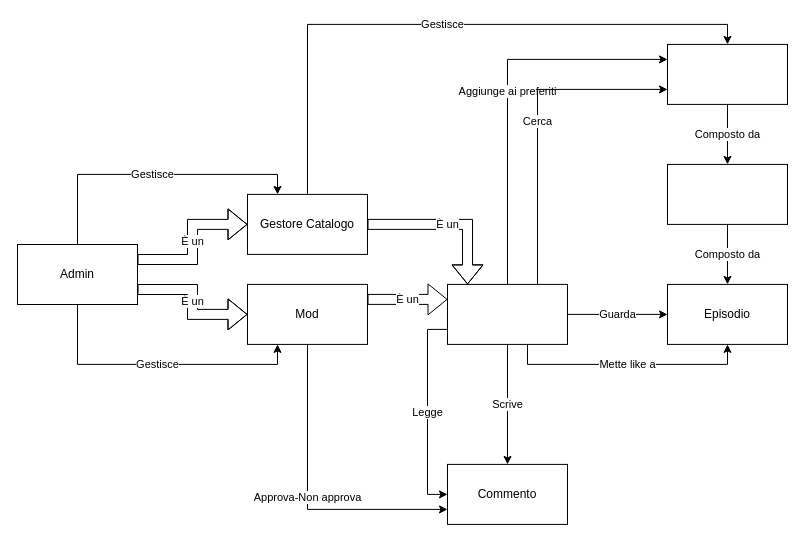
The diagram is 805 pixels wide and 542 high, and some of its shapes have lost their labels. Here are the shapes that lost their labels. From the top down, the box of each, then its label:
(666, 43, 788, 104): Show
(666, 163, 788, 224): Season
(446, 283, 568, 344): Utente
